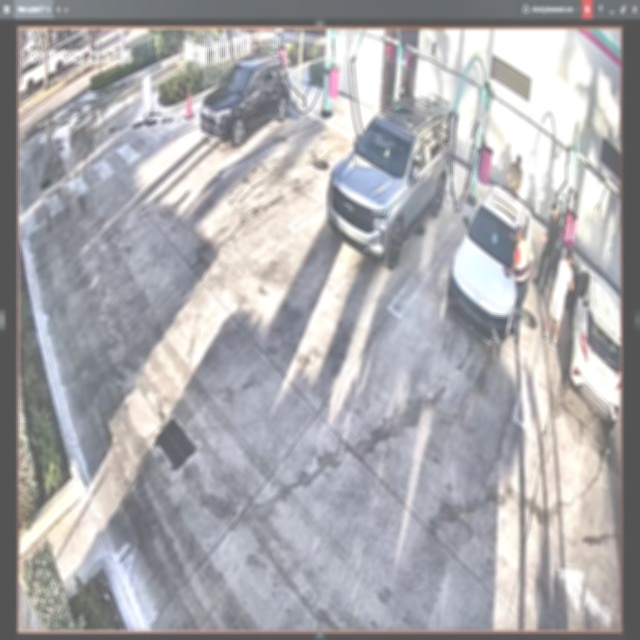Car: (326, 98, 454, 268), (448, 187, 532, 345), (200, 57, 291, 149)
